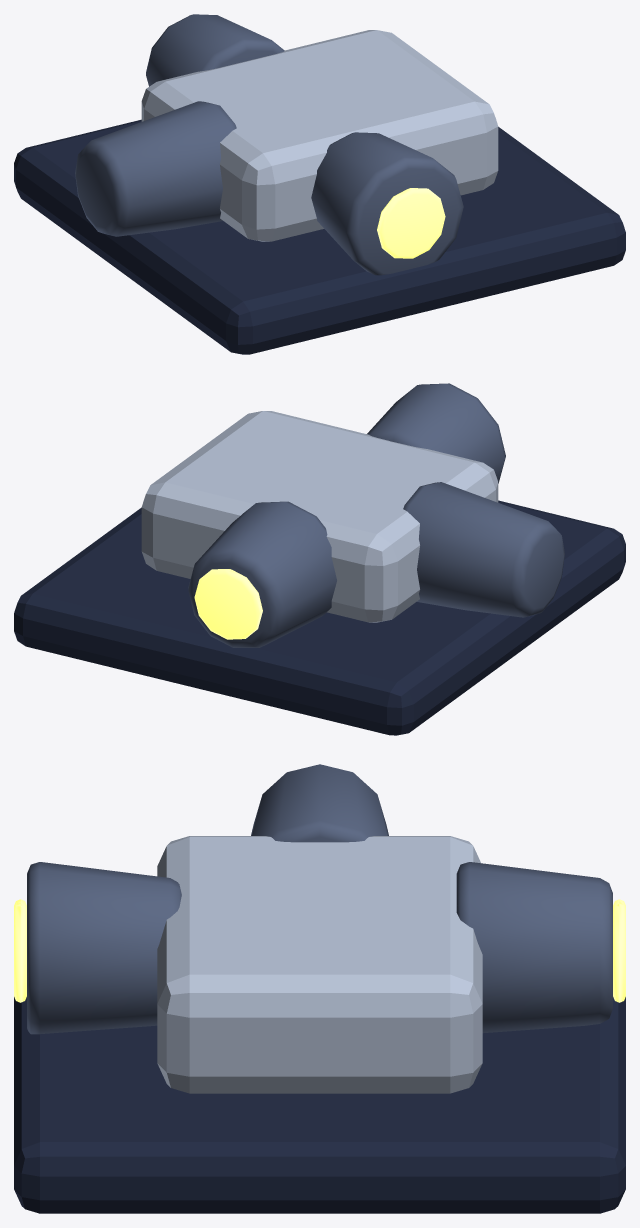
File: mod_side_thruster.glb
3 views of the same model, one above another, from view 1: azimuth 30°, elevation 25°; view 2: azimuth 150°, elevation 25°; view 3: azimuth 270°, elevation 25° (orthographic). The views are drawn at different scales.
Visible parts, largest first — view 1: mod_side_thruster; view 2: mod_side_thruster; view 3: mod_side_thruster.
Part boxes in pixels (x1,y1,x2,y2): mod_side_thruster: [14, 14, 625, 354]; mod_side_thruster: [14, 383, 625, 735]; mod_side_thruster: [14, 764, 625, 1213].
Size of the model in its own units: 1 by 0.3575 by 0.94.
